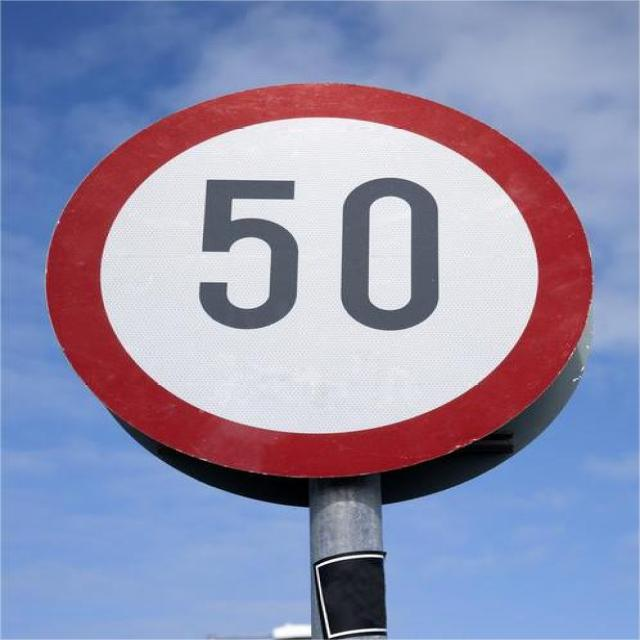speed limit 50: (45, 85, 597, 482)
